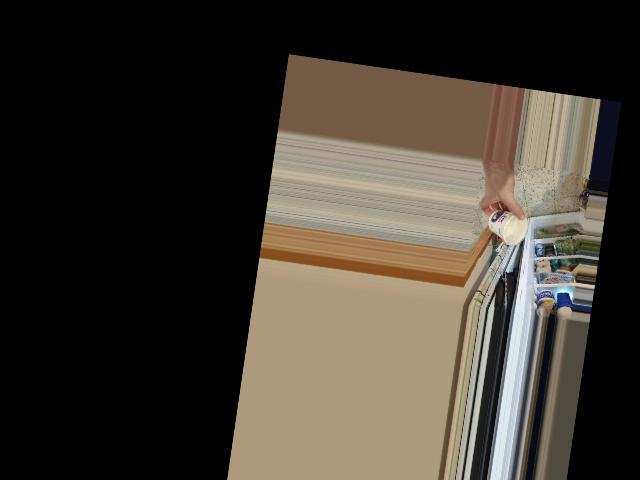cotage: (489, 209, 524, 248)
